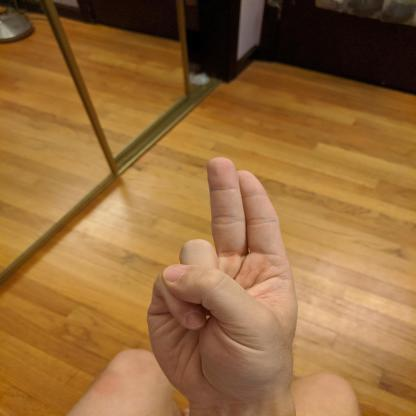U: (147, 157, 297, 402)
